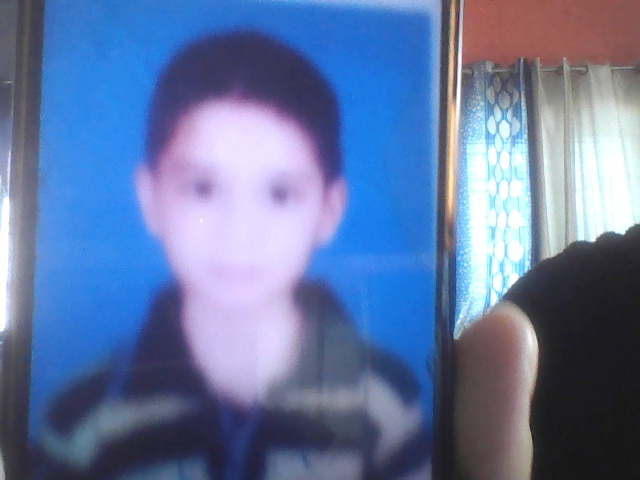fake: (139, 28, 358, 339)
